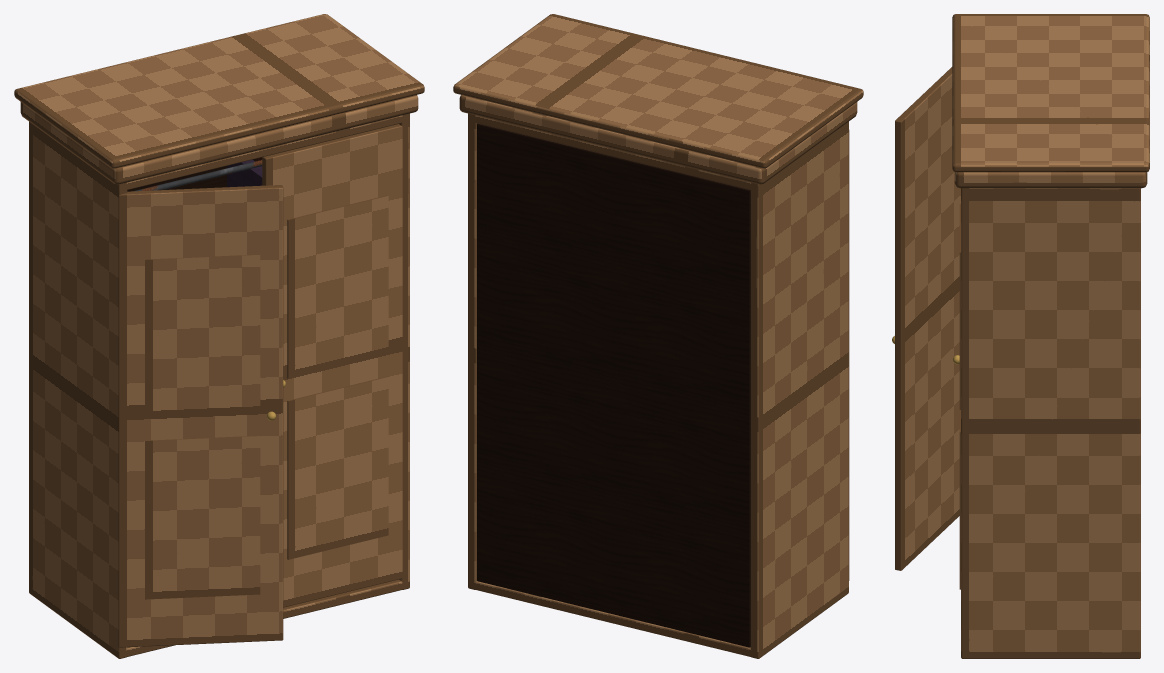
File: wardrobe.glb
The picture shows the model from 3 angles, left to right: view 1: azimuth 30°, elevation 25°; view 2: azimuth 150°, elevation 25°; view 3: azimuth 270°, elevation 25°; orthographic projection.
Parts seen in each view (by area): view 1: dyn_wood_variant, wardrobe; view 2: wardrobe, dyn_wood_variant; view 3: dyn_wood_variant.
Part boxes in pixels (x1,y1,x2,y2): dyn_wood_variant: (14,14,424,658); wardrobe: (127,157,285,420); wardrobe: (477,123,750,647); dyn_wood_variant: (453,14,863,658); dyn_wood_variant: (895,14,1149,658).
Size of the model in its own units: 1.4 by 2.15 by 1.
7 materials, 7 textured.
